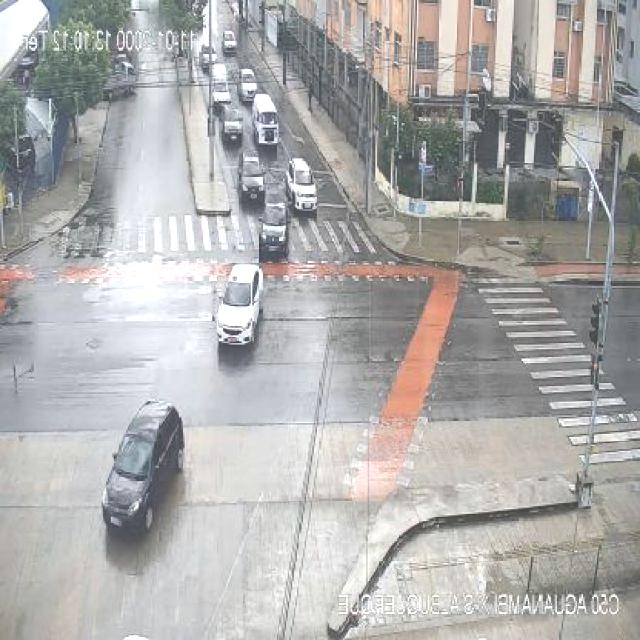Car: (101, 401, 181, 533), (217, 264, 266, 346), (285, 157, 317, 212), (258, 204, 290, 258), (237, 153, 266, 200), (103, 59, 136, 100), (220, 105, 243, 141), (238, 68, 258, 102), (200, 45, 217, 70), (222, 30, 237, 54)
Truck: (210, 63, 234, 110)
Van: (252, 94, 278, 145)
